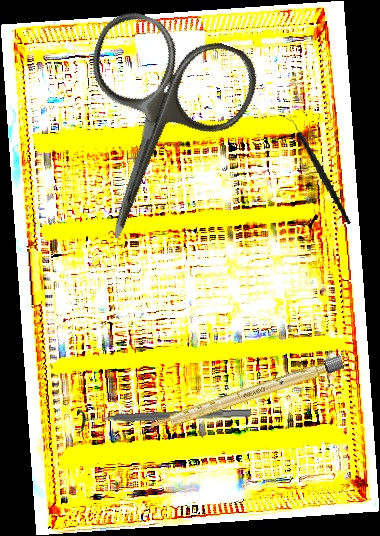Chopper: (283, 108, 351, 232)
Fixation Ring: (76, 399, 252, 436)
Iris Scissors: (36, 3, 267, 266)
Scalpel Handle: (146, 355, 345, 435)
